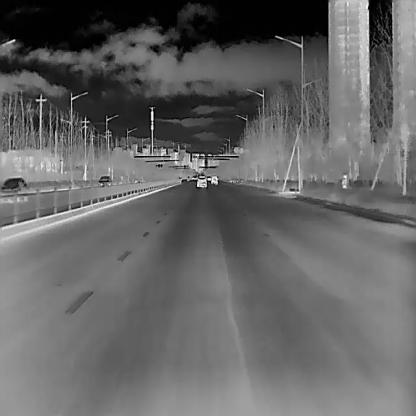car: (0, 176, 28, 202), (97, 175, 112, 186), (196, 174, 206, 187), (210, 174, 218, 184)
